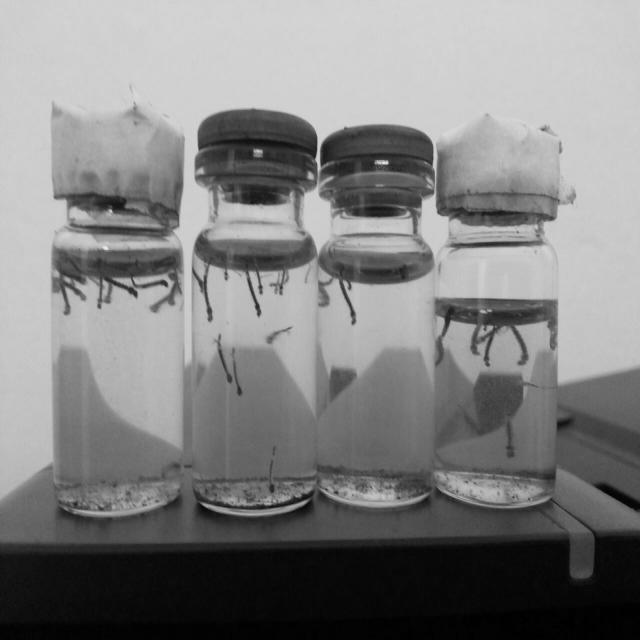larvas: (338, 275, 357, 324), (213, 335, 232, 383), (244, 267, 261, 317), (104, 277, 138, 298), (57, 276, 86, 300), (512, 326, 529, 366), (150, 289, 179, 312), (476, 324, 506, 343), (58, 280, 86, 300), (230, 349, 242, 395), (204, 262, 213, 321), (267, 326, 294, 344), (505, 418, 516, 458), (132, 276, 168, 288), (484, 331, 496, 367), (268, 445, 276, 493), (64, 254, 82, 273), (60, 281, 70, 315), (255, 260, 264, 294), (471, 319, 479, 356), (192, 268, 204, 292), (442, 309, 452, 337), (547, 320, 556, 350), (436, 333, 444, 365), (154, 256, 175, 268), (88, 275, 105, 288), (520, 380, 542, 390), (174, 267, 182, 294), (168, 282, 177, 304), (318, 284, 330, 300), (104, 282, 112, 304), (98, 273, 102, 309), (343, 274, 352, 290), (318, 277, 332, 286), (275, 270, 280, 294), (231, 268, 242, 278), (305, 261, 310, 283), (484, 319, 494, 330), (280, 270, 284, 295), (270, 281, 284, 287), (224, 260, 228, 280), (318, 300, 330, 306), (285, 270, 289, 284)
